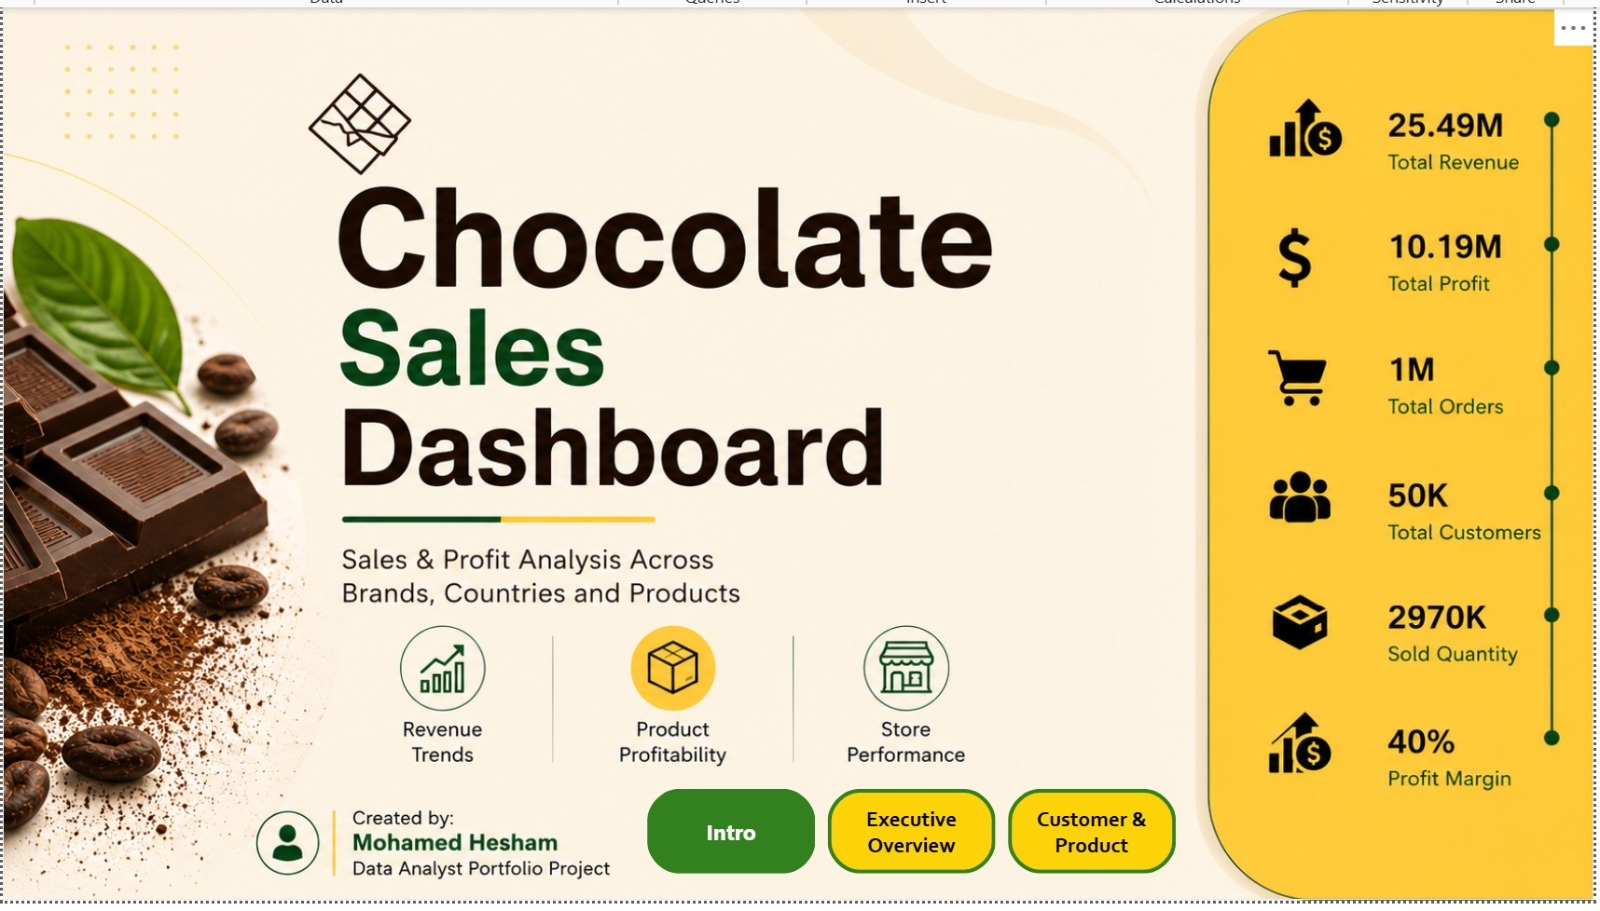

What the dashboard file says about the page in this screenshot:
{"tool":"powerbi","page":{"name":"Intro","canvas":[1280,720],"ordinal":0},"visuals":[{"type":"image","title":"Background","box":[0,0,1280,720],"z":0},{"type":"pageNavigator","box":[518.6,630,425.7,68.6],"z":1000}]}

Visuals, with their boxes on the page's 1280x720 design canvas (x1, y1, x2, y2). These are canvas units, not pixel positions in the 1600x911 screenshot, which may show the page scaled, cropped or inside an application window:
"Background" image: [x1=0, y1=0, x2=1280, y2=720]
pageNavigator: [x1=519, y1=630, x2=944, y2=699]
